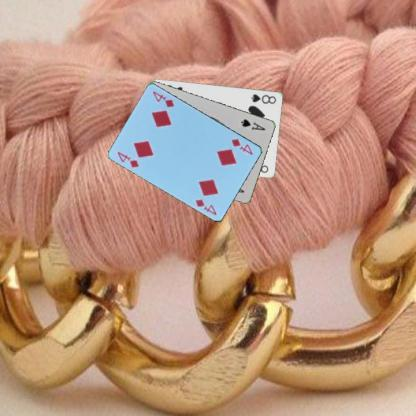4d: (115, 149, 140, 171), (228, 136, 254, 156)
8s: (248, 91, 278, 105)
As: (238, 116, 268, 132)
